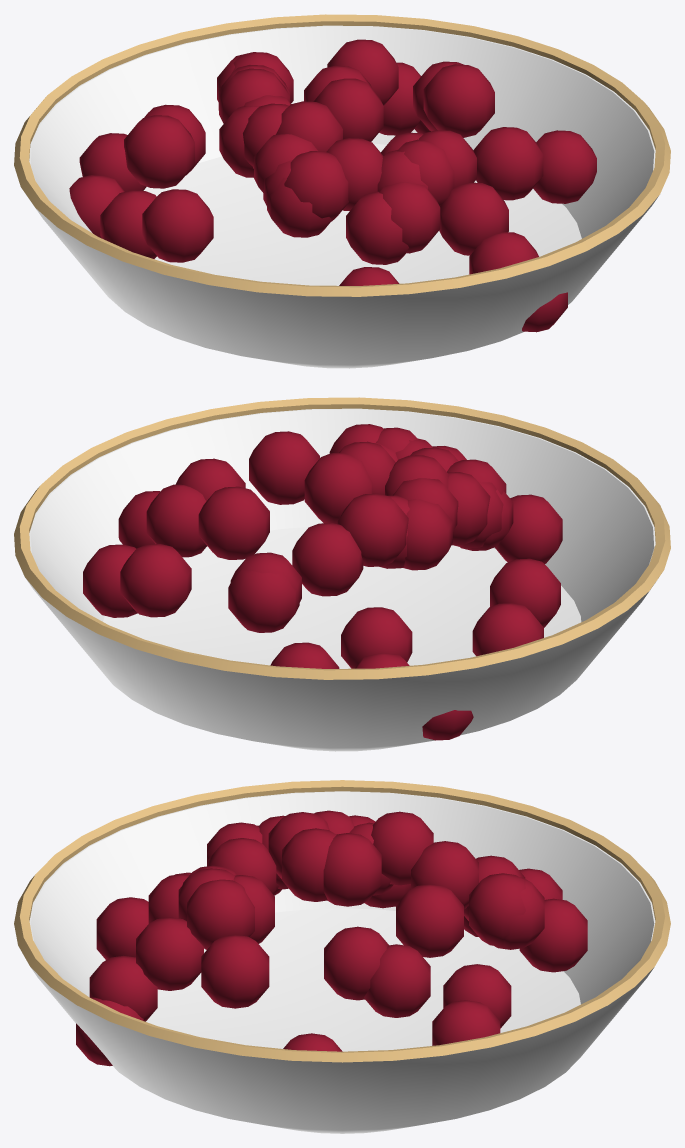
File: JAC_25_Tigela_Frutas.glb
3 views of the same model, one above another, from view 1: azimuth 30°, elevation 25°; view 2: azimuth 150°, elevation 25°; view 3: azimuth 270°, elevation 25° (orthographic).
Parts seen in each view (by area): view 1: JAC_25_Tigela_Frutas; view 2: JAC_25_Tigela_Frutas; view 3: JAC_25_Tigela_Frutas.
Boxes of the visible parts, x1=… form: JAC_25_Tigela_Frutas: x1=14, y1=14, x2=670, y2=368; JAC_25_Tigela_Frutas: x1=14, y1=397, x2=670, y2=751; JAC_25_Tigela_Frutas: x1=14, y1=780, x2=670, y2=1133.
Size of the model in its own units: 0.236 by 0.0952 by 0.236.
